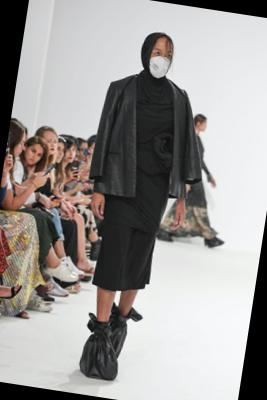with_mask: (147, 47, 174, 81)
without_mask: (24, 146, 45, 169), (12, 137, 27, 160), (43, 137, 58, 157), (64, 146, 76, 164), (55, 146, 66, 164), (78, 146, 89, 163), (201, 122, 209, 133)
